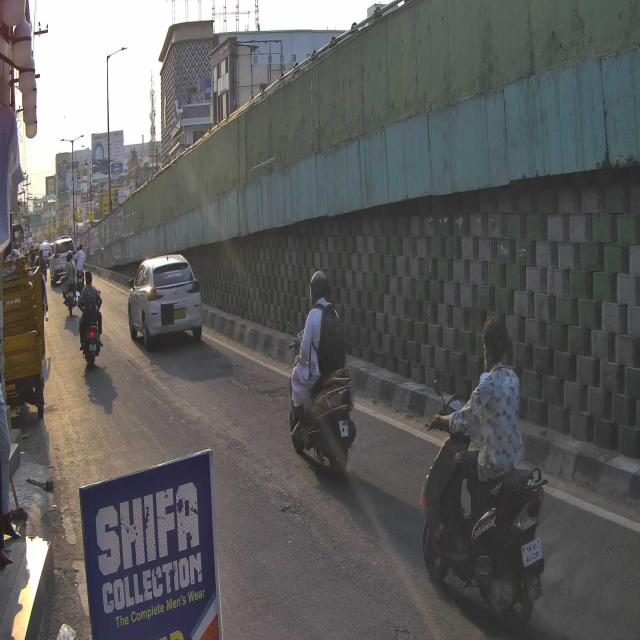single_rider: (418, 313, 546, 629), (287, 268, 357, 477)
